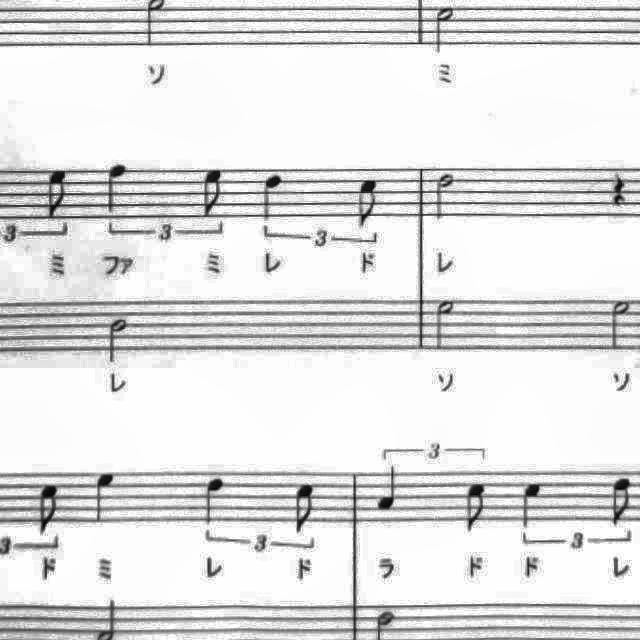Eighth-note: (30, 478, 68, 542), (38, 161, 76, 223), (458, 476, 494, 540), (604, 470, 640, 530), (286, 480, 322, 540), (196, 160, 232, 220), (350, 174, 386, 232)
Half-note: (602, 294, 638, 356), (431, 294, 464, 358), (429, 0, 463, 60), (102, 314, 136, 370), (428, 168, 459, 224)
Quarter-note: (86, 465, 124, 529), (255, 168, 291, 228), (514, 473, 550, 533), (198, 470, 234, 530), (99, 158, 133, 218), (372, 462, 408, 518)
Quarter-rest: (603, 164, 635, 212)
